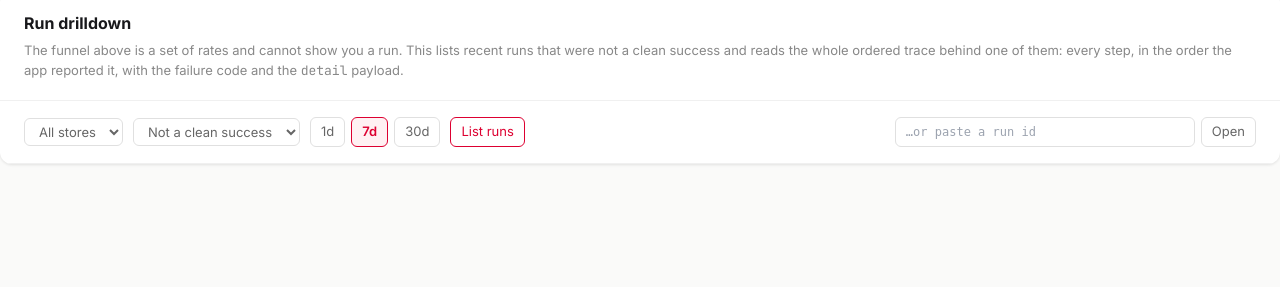
Test: AdminRunDrilldown › badges a run that could not read the cart UNVERIFIED, not PARTIAL
The image size is (1280, 287).
Click the button "List runs": (488, 132) [450,117,525,146]
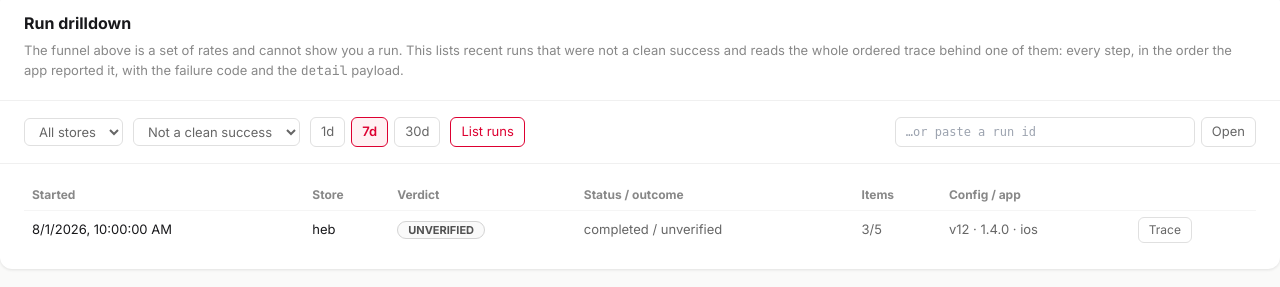
Check: the text "UNVERIFIED" is shown, box [397,221,485,239]
